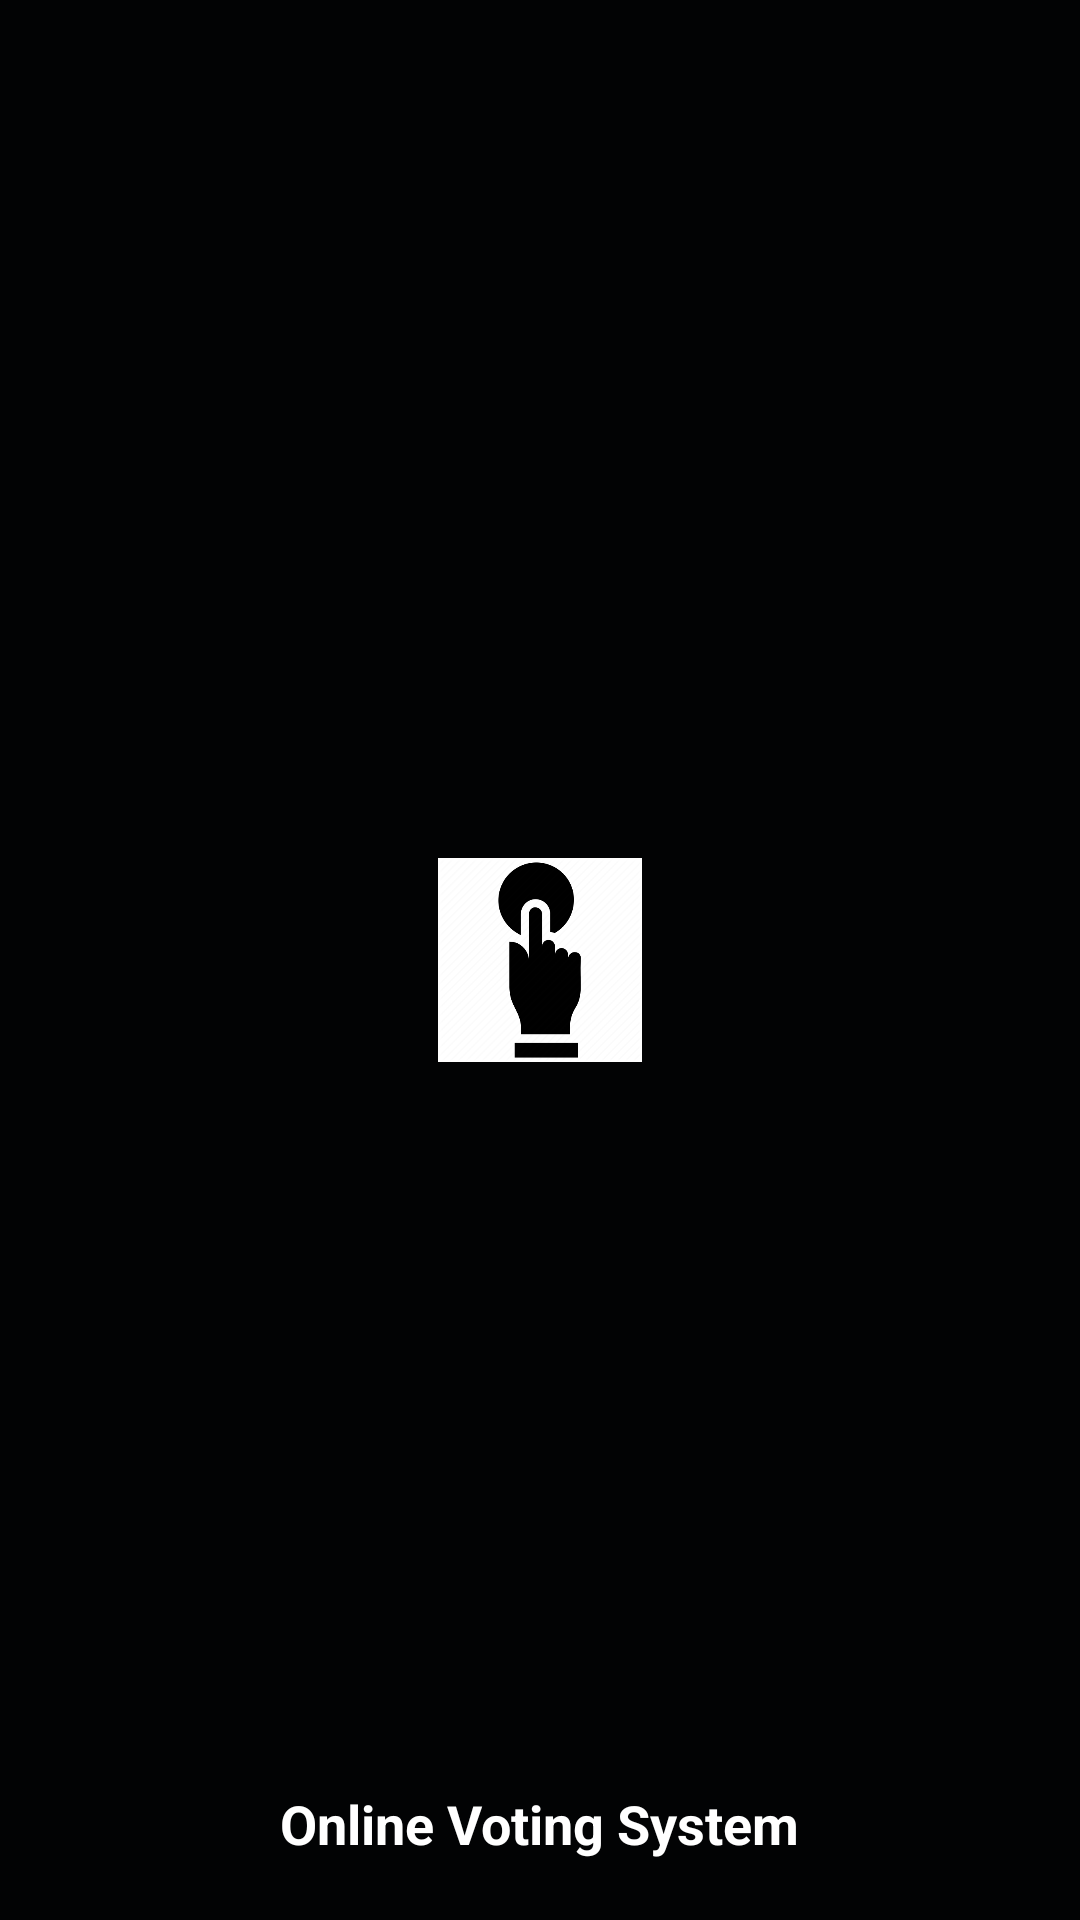

Screen size 1080x1920. Icon name, then its center in pixels as (x,y):
vote: (540,960)
